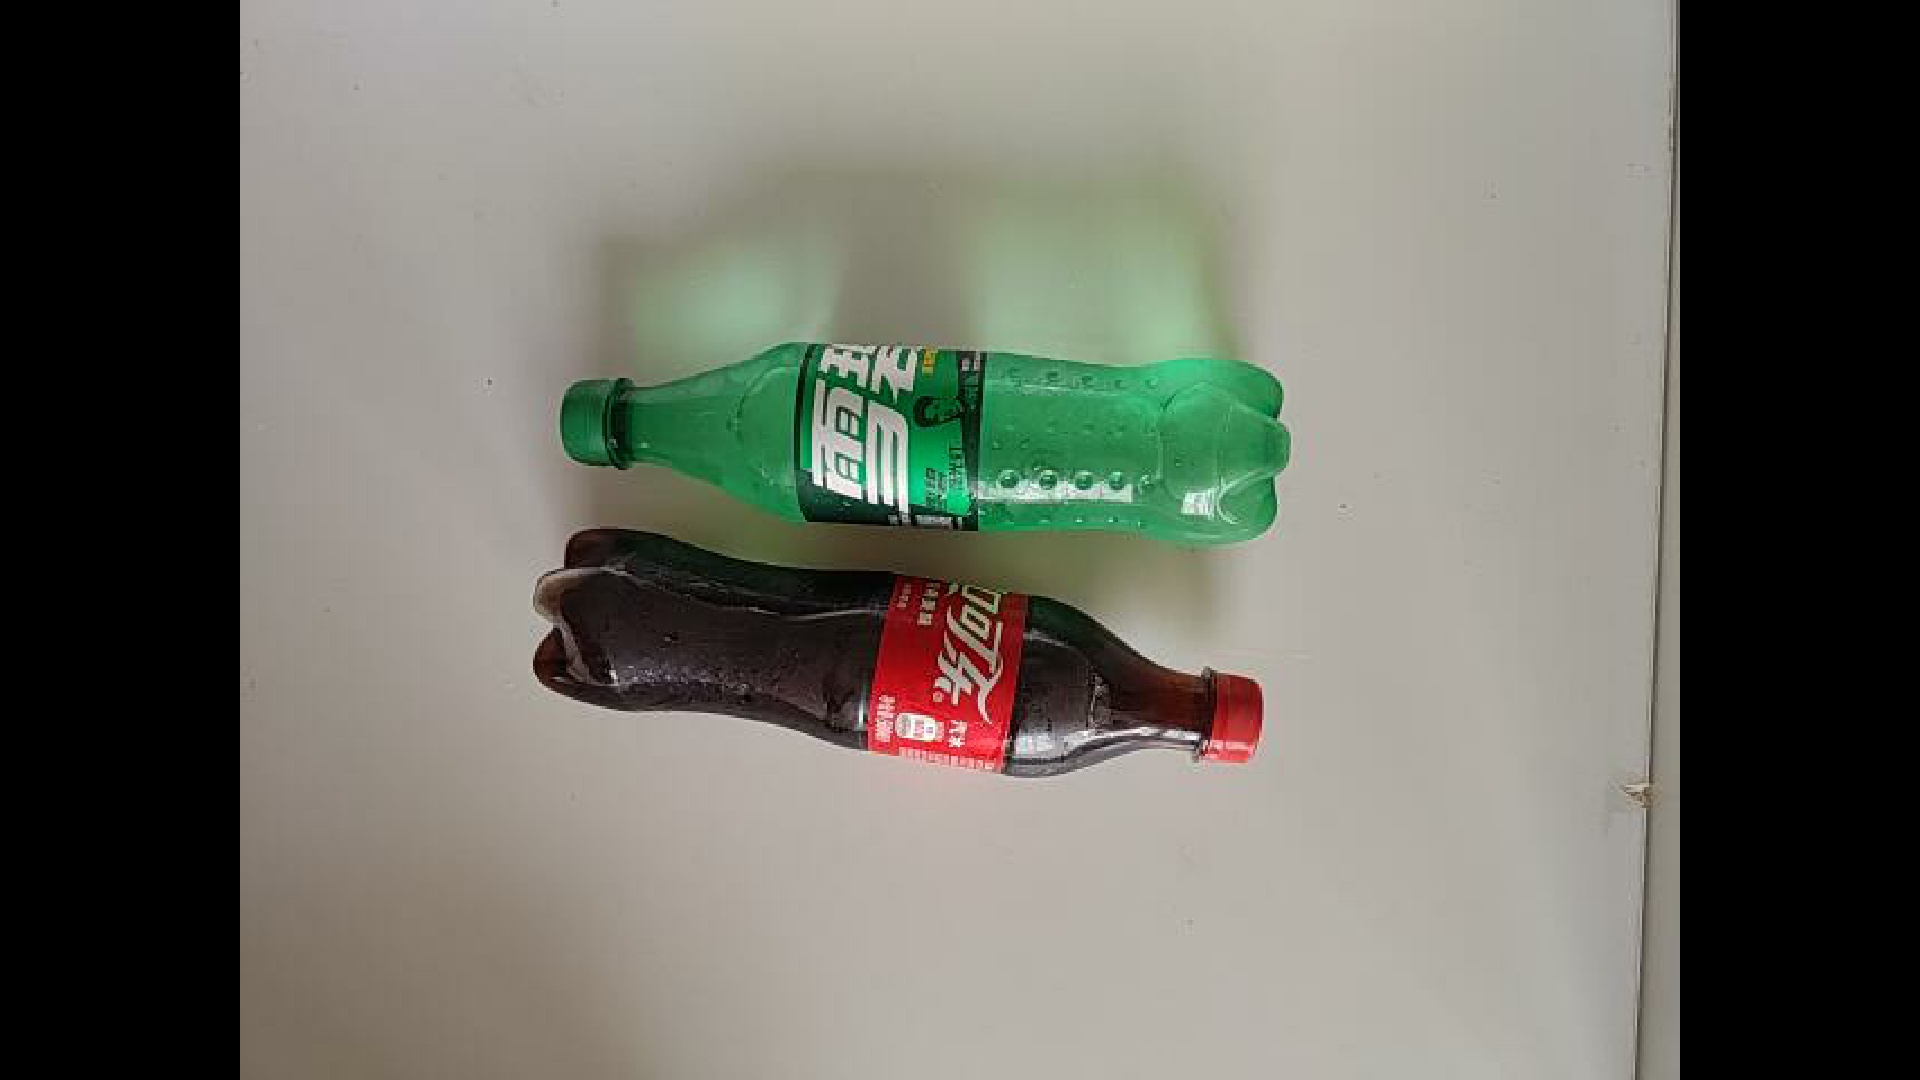cola: (516, 564, 1302, 815)
sprite: (550, 331, 1296, 538)
